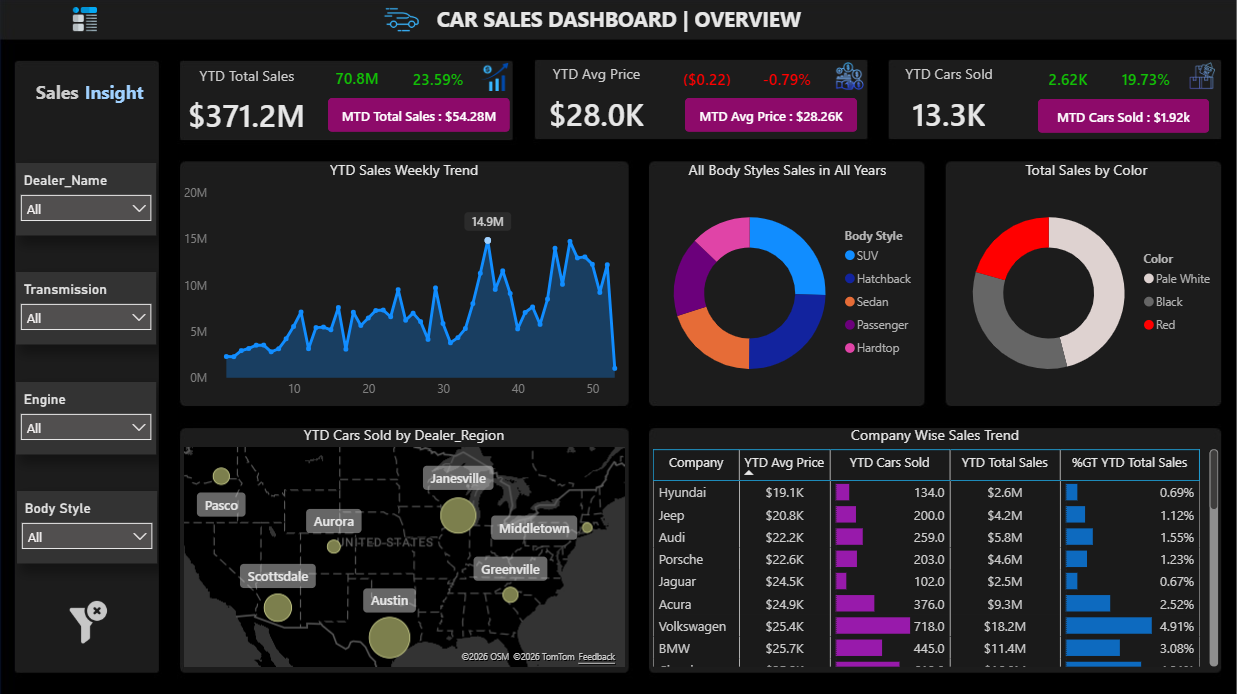

The page's visual inventory and layout, read from the dashboard file:
{"tool":"powerbi","page":{"name":"Overview","canvas":[1280,720],"ordinal":0},"visuals":[{"type":"cardVisual","title":"Sales Difference","fields":{"Data":["Date (Calender Table).Sales diff"]},"box":[320.3,58.8,98.4,41.1],"z":0},{"type":"image","box":[70.5,7.3,35.3,25],"z":1000},{"type":"cardVisual","title":"Sales Difference","fields":{"Data":["Date (Calender Table).YOY Sales Growth"]},"box":[402.6,58.8,102.9,42.6],"z":2000},{"type":"cardVisual","fields":{"Data":["Date (Calender Table).MTD KPI"]},"box":[338.9,101.9,188.8,35.8],"z":3000},{"type":"cardVisual","title":"YTD Avg Price","fields":{"Data":["Date (Calender Table).YTD Avg Price"]},"box":[536.8,66.2,160.3,83.8],"z":4000},{"type":"cardVisual","title":"Sales Difference","fields":{"Data":["Date (Calender Table).Avg Price Diff"]},"box":[673,58.8,116.1,42.6],"z":5000},{"type":"cardVisual","title":"Sales Difference","fields":{"Data":["Date (Calender Table).YOY Avg Price Growth"]},"box":[756.7,58.8,114.6,42.6],"z":6000},{"type":"cardVisual","fields":{"Data":["Date (Calender Table).MTD Avg Price KPI"]},"box":[708.8,101.8,178.9,35.8],"z":7000},{"type":"cardVisual","title":"YTD Cars Sold","fields":{"Data":["Date (Calender Table).YTD Cars Sold"]},"box":[902.9,66.2,157.4,83.8],"z":8000},{"type":"cardVisual","title":"Sales Difference","fields":{"Data":["Date (Calender Table).Cars Sold Diff"]},"box":[1047.7,58.8,114.6,42.6],"z":9000},{"type":"cardVisual","title":"Sales Difference","fields":{"Data":["Date (Calender Table).YOY Cars Sold Growth"]},"box":[1128.5,58.8,114.6,42.6],"z":10000},{"type":"cardVisual","fields":{"Data":["Date (Calender Table).MTD Cars Sold KPI"]},"box":[1073.5,102.3,177.9,35.3],"z":11000},{"type":"areaChart","title":"YTD Sales Weekly Trend","fields":{"Category":["Date (Calender Table).Week"],"Y":["Sum(car_data.Price ($))","Date (Calender Table).Max Point(Chart)"]},"box":[185.5,165.8,465.8,255.3],"z":12000},{"type":"donutChart","fields":{"Category":["car_data.Body Style"],"Y":["Date (Calender Table).Total Sales"]},"box":[672.4,165.8,284.2,255.3],"z":13000},{"type":"donutChart","fields":{"Y":["Date (Calender Table).Total Sales"],"Category":["car_data.Color"]},"box":[981.6,165.8,284.2,255.3],"z":14000},{"type":"azureMap","fields":{"Size":["Date (Calender Table).YTD Cars Sold"],"Category":["car_data.Dealer_Region"]},"box":[185.5,439.5,465.8,255.3],"z":15000},{"type":"tableEx","title":"Company Wise Sales Trend","fields":{"Values":["car_data.Company","Date (Calender Table).YTD Avg Price","Date (Calender Table).YTD Cars Sold","Date (Calender Table).YTD Total Sales1","Date (Calender Table).YTD Total Sales"]},"box":[669.7,439.5,596.1,255.3],"z":16000},{"type":"textbox","box":[435.4,0,409.2,43.4],"z":17000},{"type":"slicer","fields":{"Values":["car_data.Body Style"]},"box":[17.9,507.7,144.8,75.1],"z":18000},{"type":"slicer","fields":{"Values":["car_data.Dealer_Name"]},"box":[17,168.6,145,75],"z":19000},{"type":"slicer","fields":{"Values":["car_data.Transmission"]},"box":[17,281.6,144.8,75.1],"z":20000},{"type":"slicer","fields":{"Values":["car_data.Engine"]},"box":[17,394.7,144.8,75.1],"z":21000},{"type":"image","box":[1224,64.7,39.7,27.9],"z":22000},{"type":"image","box":[861.1,64.7,36.7,29.4],"z":23000},{"type":"image","box":[377.6,0,76.4,39.7],"z":24000},{"type":"image","box":[496.7,61.7,30.9,35.3],"z":25000},{"type":"textbox","box":[82.3,77.9,82.3,36.7],"z":26000},{"type":"textbox","box":[32.3,77.9,70.5,36.7],"z":27000},{"type":"image","box":[69.1,618.6,44.1,50],"z":28000},{"type":"cardVisual","title":"YTD Total Sales","fields":{"Data":["Measures Table.YTD Total Sales"]},"box":[162.7,67.9,185.9,82.2],"z":30000}]}

Visuals, with their boxes in screenshot pixels (x1, y1, x2, y2), scaled from the page's 1280x720 canvas onto the 1237x694 screenshot:
"Sales Difference" cardVisual: [310,57,405,96]
image: [68,7,102,31]
"Sales Difference" cardVisual: [389,57,489,98]
cardVisual - Date (Calender Table).MTD KPI: [328,98,510,133]
"YTD Avg Price" cardVisual: [519,64,674,145]
"Sales Difference" cardVisual: [650,57,763,98]
"Sales Difference" cardVisual: [731,57,842,98]
cardVisual - Date (Calender Table).MTD Avg Price KPI: [685,98,858,133]
"YTD Cars Sold" cardVisual: [873,64,1025,145]
"Sales Difference" cardVisual: [1013,57,1123,98]
"Sales Difference" cardVisual: [1091,57,1201,98]
cardVisual - Date (Calender Table).MTD Cars Sold KPI: [1037,99,1209,133]
"YTD Sales Weekly Trend" areaChart: [179,160,629,406]
donutChart - car_data.Body Style x Date (Calender Table).Total Sales: [650,160,924,406]
donutChart - Date (Calender Table).Total Sales x car_data.Color: [949,160,1223,406]
azureMap - Date (Calender Table).YTD Cars Sold x car_data.Dealer_Region: [179,424,629,670]
"Company Wise Sales Trend" tableEx: [647,424,1223,670]
textbox: [421,0,816,42]
slicer - car_data.Body Style: [17,489,157,562]
slicer - car_data.Dealer_Name: [16,163,157,235]
slicer - car_data.Transmission: [16,271,156,344]
slicer - car_data.Engine: [16,380,156,453]
image: [1183,62,1221,89]
image: [832,62,868,91]
image: [365,0,439,38]
image: [480,59,510,93]
textbox: [80,75,159,110]
textbox: [31,75,99,110]
image: [67,596,109,644]
"YTD Total Sales" cardVisual: [157,65,337,145]
